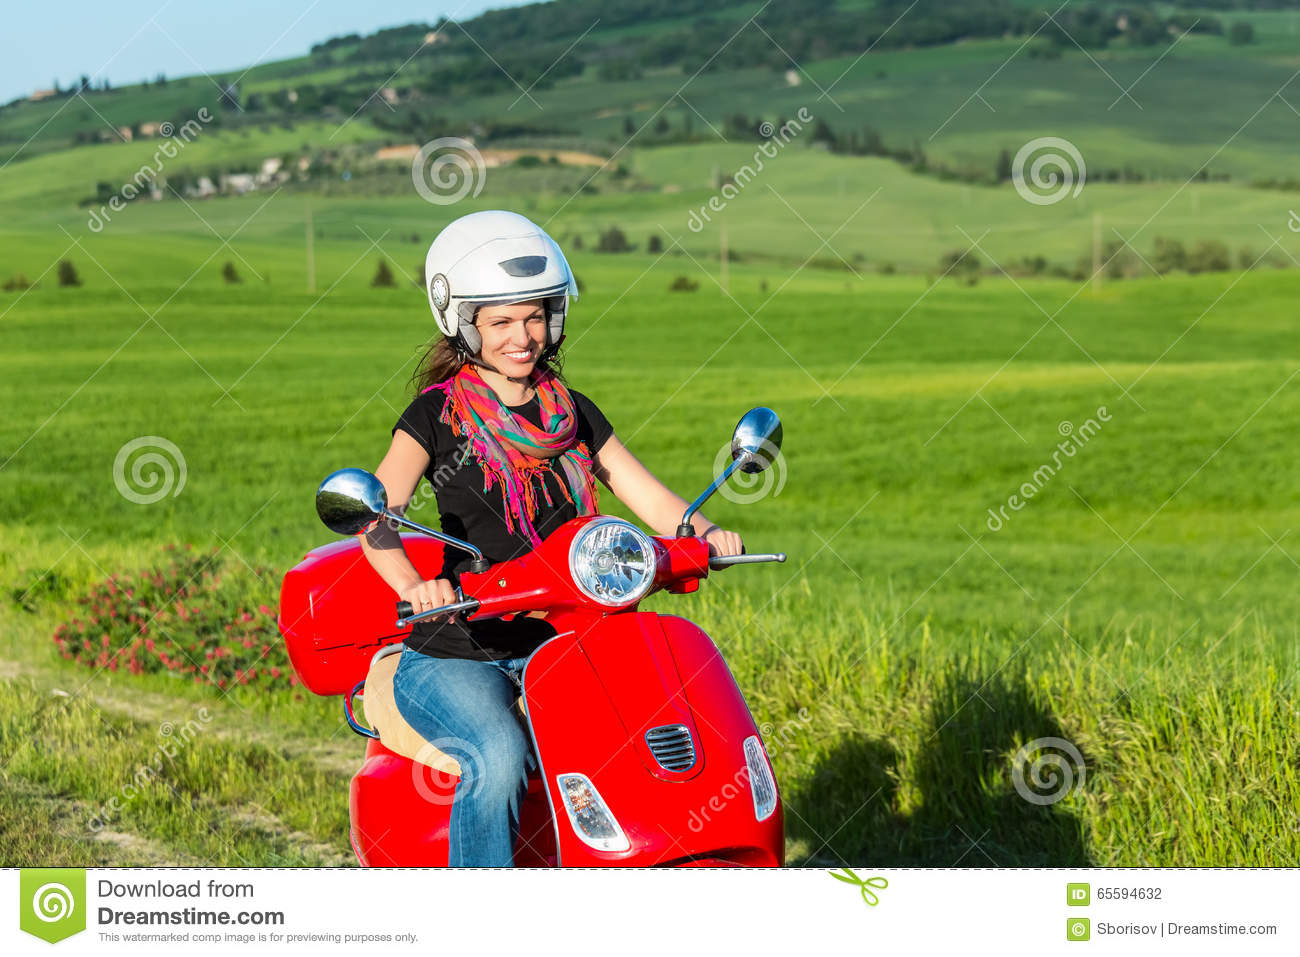helmet: (420, 213, 577, 342)
